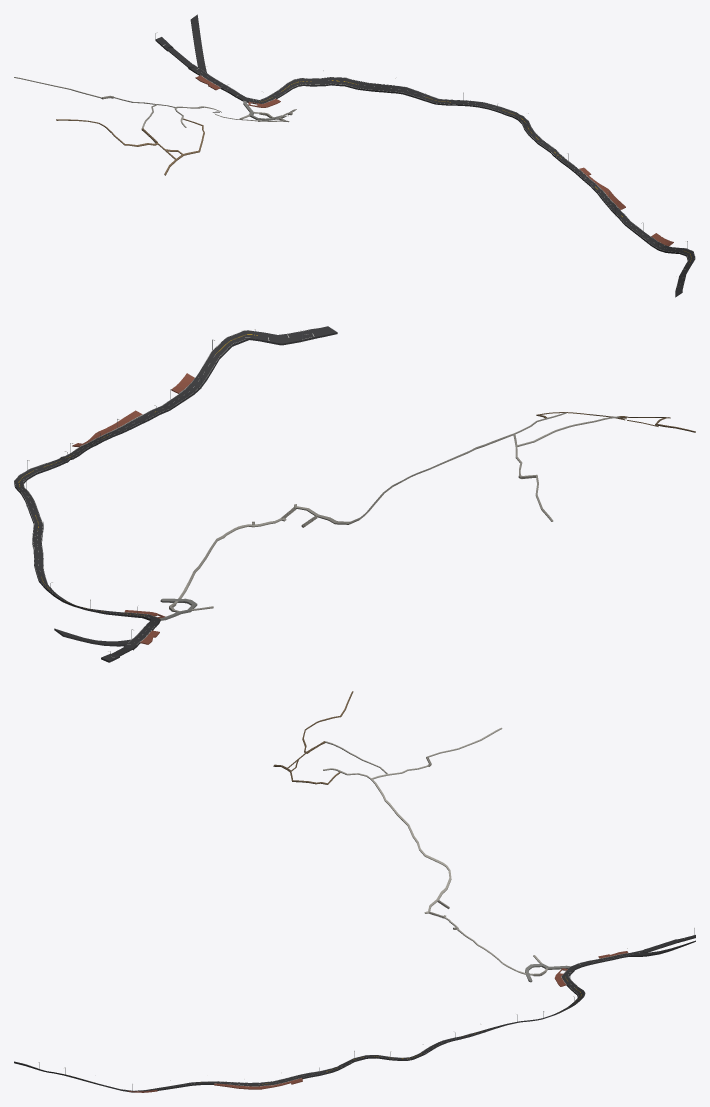
The model's file is 16-54730-29743.bde5dfb3.glb.
The picture shows the model from 3 angles, top to bottom: view 1: azimuth 30°, elevation 25°; view 2: azimuth 150°, elevation 25°; view 3: azimuth 270°, elevation 25°; orthographic projection. The views are drawn at different scales.
Size of the model in its own units: 490 by 157 by 583.
